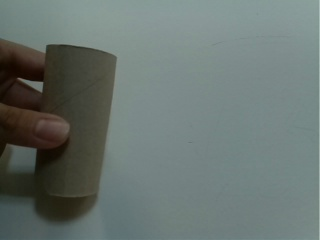rollo papel: (33, 42, 122, 200)
